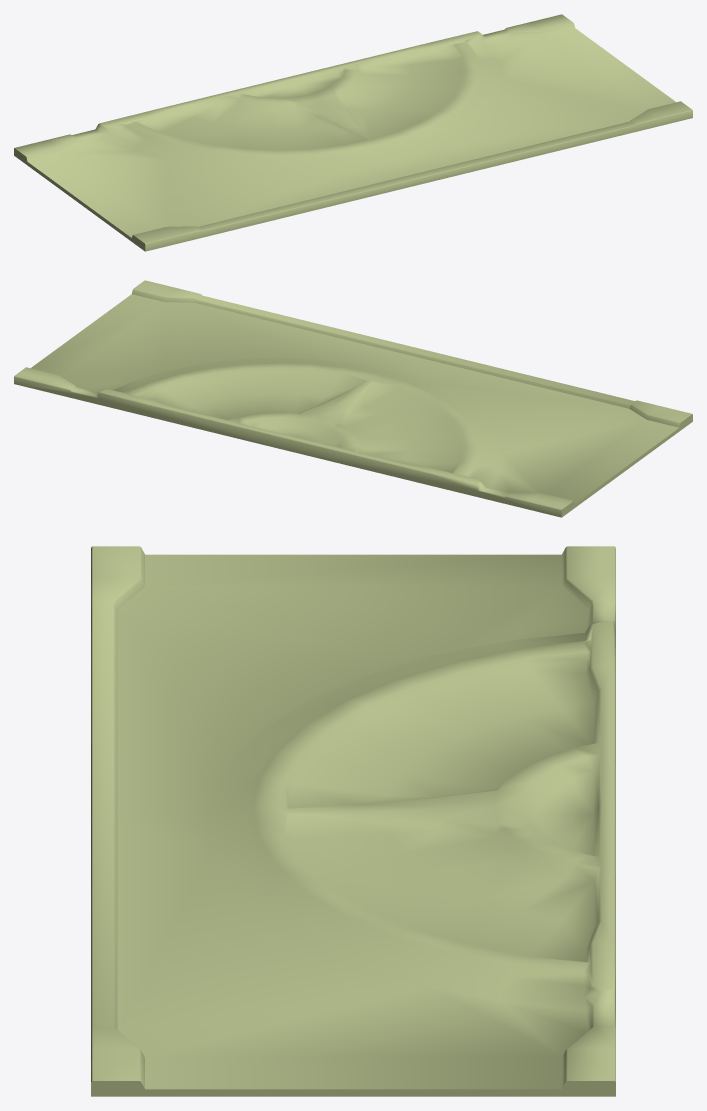
The model's file is SM_BridgeTop.fbx.
3 renders of one model, top to bottom at view 1: azimuth 30°, elevation 25°; view 2: azimuth 150°, elevation 25°; view 3: azimuth 270°, elevation 25°, orthographic. The views are drawn at different scales.
Visible parts, largest first — view 1: SM_BridgeTop006; view 2: SM_BridgeTop006; view 3: SM_BridgeTop006.
Boxes of the visible parts, x1,y1,x2,y2 form: SM_BridgeTop006: (14,14,692,251); SM_BridgeTop006: (14,280,692,517); SM_BridgeTop006: (91,546,615,1096).
Size of the model in its own units: 2048 by 43.71 by 850.
